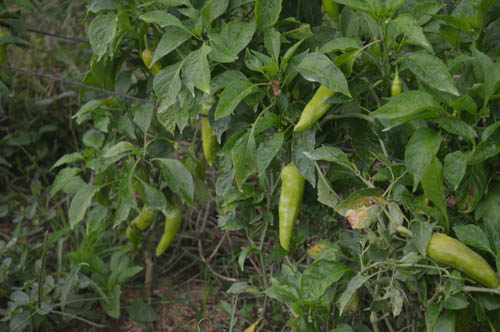ChiliPepper: (420, 223, 499, 293), (282, 67, 352, 135), (270, 155, 310, 255), (190, 92, 227, 171), (115, 186, 158, 253), (152, 201, 187, 257), (140, 43, 167, 85), (383, 70, 410, 107)
